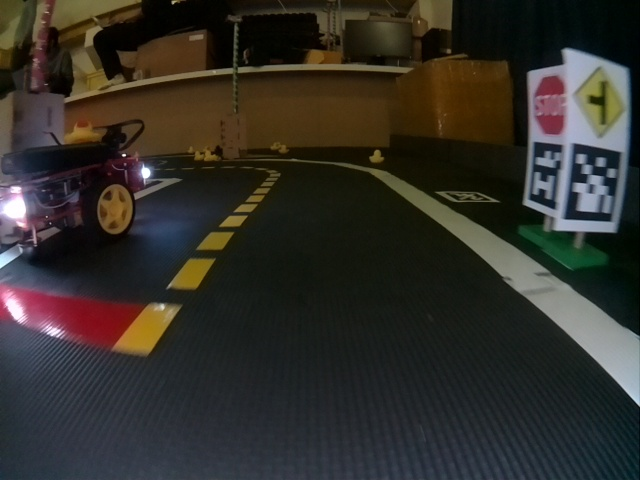Duckie: (67, 122, 101, 144), (368, 150, 384, 161), (205, 151, 219, 161)
Duckiebot: (2, 137, 145, 250)
Intersection sign: (565, 49, 630, 141)
QR code: (562, 142, 622, 227), (525, 141, 564, 209), (440, 191, 497, 203)
Stop sign: (529, 75, 566, 129)
